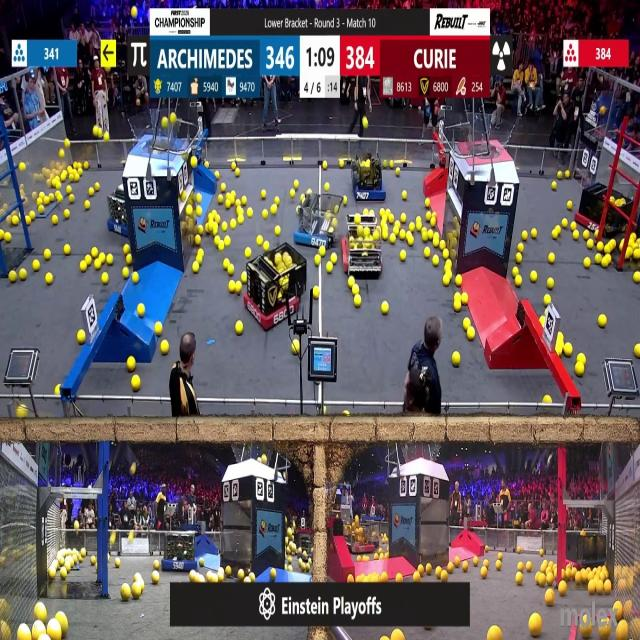ball_airborne: (163, 116, 170, 126), (170, 113, 177, 123), (131, 464, 137, 475), (132, 7, 138, 17), (60, 148, 66, 158), (18, 161, 24, 171), (362, 116, 367, 127), (600, 106, 606, 115), (65, 139, 70, 149)
ball_ground: (529, 616, 541, 638), (58, 615, 69, 636), (35, 602, 46, 622), (618, 623, 629, 640), (18, 626, 31, 640), (32, 626, 44, 640), (599, 625, 610, 640), (120, 586, 130, 602), (489, 627, 501, 640), (190, 570, 203, 582), (544, 590, 553, 606), (133, 585, 142, 599), (128, 356, 136, 370), (558, 583, 566, 597), (132, 377, 140, 391), (291, 341, 299, 355), (208, 571, 218, 582), (392, 630, 403, 640), (536, 572, 545, 584), (16, 408, 25, 420), (451, 352, 458, 367), (162, 342, 170, 355), (77, 332, 85, 345), (466, 327, 474, 340), (236, 321, 244, 334), (575, 362, 583, 375), (556, 343, 564, 356), (598, 314, 606, 326), (516, 572, 524, 584), (154, 322, 162, 334), (8, 272, 16, 284), (132, 272, 140, 284), (602, 255, 610, 267), (564, 345, 572, 357), (545, 572, 553, 584), (138, 305, 145, 318), (382, 303, 389, 316), (18, 270, 26, 281), (210, 222, 218, 233), (313, 286, 320, 298), (45, 274, 52, 286), (227, 282, 234, 294), (589, 583, 596, 595), (460, 294, 468, 304), (454, 302, 462, 312), (542, 394, 550, 404), (576, 353, 584, 363), (604, 582, 610, 595), (422, 228, 428, 241), (516, 276, 523, 287), (530, 272, 537, 283), (354, 295, 361, 306), (546, 278, 553, 289), (61, 568, 68, 579), (102, 273, 108, 285), (356, 573, 364, 582), (369, 572, 378, 580), (444, 276, 451, 286), (93, 248, 100, 258), (635, 344, 640, 358), (553, 230, 560, 240), (95, 261, 102, 271), (244, 248, 251, 258), (198, 224, 205, 234), (186, 206, 193, 216), (218, 571, 225, 581), (442, 570, 449, 580), (354, 214, 361, 224), (608, 241, 615, 251), (107, 253, 113, 264), (122, 269, 128, 280), (634, 273, 640, 284), (152, 571, 158, 582), (585, 257, 591, 268), (44, 249, 50, 260), (463, 318, 469, 329), (400, 250, 406, 261), (236, 282, 242, 293), (425, 564, 431, 575), (2, 232, 8, 243), (588, 240, 595, 249), (11, 216, 18, 225), (389, 236, 396, 245), (381, 571, 388, 580), (212, 237, 219, 246), (393, 223, 400, 232), (65, 245, 71, 255), (543, 294, 549, 304), (80, 264, 86, 274), (532, 230, 538, 240), (456, 276, 462, 286), (34, 262, 40, 272), (51, 215, 57, 225), (396, 572, 402, 582), (123, 245, 129, 255), (547, 252, 553, 262), (408, 237, 414, 247), (517, 253, 523, 263), (349, 278, 355, 288), (315, 255, 321, 265), (424, 248, 430, 258), (127, 254, 133, 264), (224, 566, 230, 576), (596, 254, 602, 264), (522, 232, 528, 242), (194, 236, 200, 246), (444, 249, 450, 259), (227, 266, 233, 276), (432, 256, 438, 266), (256, 236, 262, 246), (326, 264, 332, 274), (482, 567, 488, 577), (562, 218, 568, 228), (441, 240, 447, 250), (462, 562, 468, 572), (388, 213, 394, 223), (526, 562, 532, 572), (594, 240, 600, 250), (518, 562, 524, 572), (238, 569, 244, 579), (416, 220, 422, 230), (382, 231, 388, 241), (634, 249, 640, 259), (348, 574, 355, 582), (571, 232, 578, 240), (352, 286, 359, 294), (198, 249, 205, 257), (276, 224, 281, 235), (242, 273, 247, 284), (192, 265, 198, 274), (154, 561, 160, 570), (566, 202, 572, 211), (246, 209, 252, 218), (194, 207, 200, 216), (272, 206, 278, 215), (231, 219, 237, 228), (260, 189, 266, 198), (414, 572, 420, 581), (410, 222, 416, 231), (26, 216, 32, 225), (238, 215, 244, 224), (435, 567, 441, 576), (275, 198, 281, 207), (340, 161, 346, 170), (218, 243, 224, 252), (57, 192, 63, 201), (88, 255, 94, 264), (250, 572, 256, 581), (196, 258, 202, 267), (92, 557, 98, 566), (594, 232, 600, 241), (331, 253, 336, 263), (224, 237, 229, 247), (200, 558, 205, 568), (65, 210, 70, 220), (496, 560, 501, 570), (242, 197, 247, 207), (428, 231, 433, 241), (265, 242, 270, 252), (426, 212, 431, 222), (584, 232, 590, 240), (218, 194, 224, 202), (84, 202, 90, 210), (472, 558, 478, 566), (424, 200, 430, 208), (224, 201, 230, 209), (319, 248, 325, 256), (514, 268, 520, 276), (398, 232, 404, 240), (220, 183, 226, 191), (432, 240, 438, 248), (454, 293, 460, 301), (446, 262, 452, 270), (454, 558, 460, 566), (564, 171, 570, 179), (557, 172, 563, 180), (237, 207, 243, 215), (43, 198, 49, 206), (539, 564, 545, 572), (195, 192, 200, 201), (571, 221, 576, 230), (264, 210, 269, 219), (322, 162, 327, 171), (222, 221, 227, 230), (419, 565, 424, 574), (56, 386, 61, 395), (449, 563, 454, 572), (237, 199, 242, 208), (104, 133, 109, 142), (49, 192, 54, 201), (298, 560, 303, 569), (74, 175, 80, 182), (362, 556, 368, 563), (77, 169, 83, 176), (401, 190, 406, 198), (400, 214, 405, 222), (115, 560, 120, 568), (395, 168, 400, 176), (324, 182, 329, 190), (236, 169, 241, 177), (90, 187, 95, 195), (67, 185, 72, 193), (484, 560, 489, 568), (272, 568, 276, 578), (430, 218, 435, 226), (519, 244, 524, 252), (381, 210, 386, 218), (223, 258, 228, 266), (631, 234, 636, 242), (232, 163, 237, 171), (331, 218, 336, 226), (205, 162, 210, 170), (31, 212, 36, 220), (57, 181, 62, 189), (540, 317, 544, 326), (290, 188, 294, 197), (553, 181, 557, 190), (356, 556, 362, 562), (294, 182, 298, 191), (380, 554, 386, 560), (244, 576, 250, 582), (212, 210, 216, 219), (96, 183, 101, 190), (39, 207, 44, 214), (556, 225, 561, 232), (215, 172, 220, 179), (539, 550, 544, 557), (299, 192, 304, 199), (308, 188, 313, 195), (70, 196, 74, 204), (344, 198, 348, 206), (84, 162, 88, 170), (130, 534, 134, 542), (388, 159, 392, 167), (484, 544, 490, 549), (328, 227, 333, 233), (363, 210, 368, 216), (498, 553, 502, 560), (288, 565, 292, 572), (384, 162, 388, 169), (516, 548, 520, 554)
goal: (460, 117, 517, 158), (128, 114, 188, 152)
robot_blue: (294, 194, 334, 248), (351, 152, 385, 202), (163, 529, 199, 571), (106, 188, 134, 236)
robot_red: (246, 243, 308, 330), (344, 216, 382, 278), (578, 174, 608, 228), (564, 532, 604, 572), (343, 515, 380, 555)
